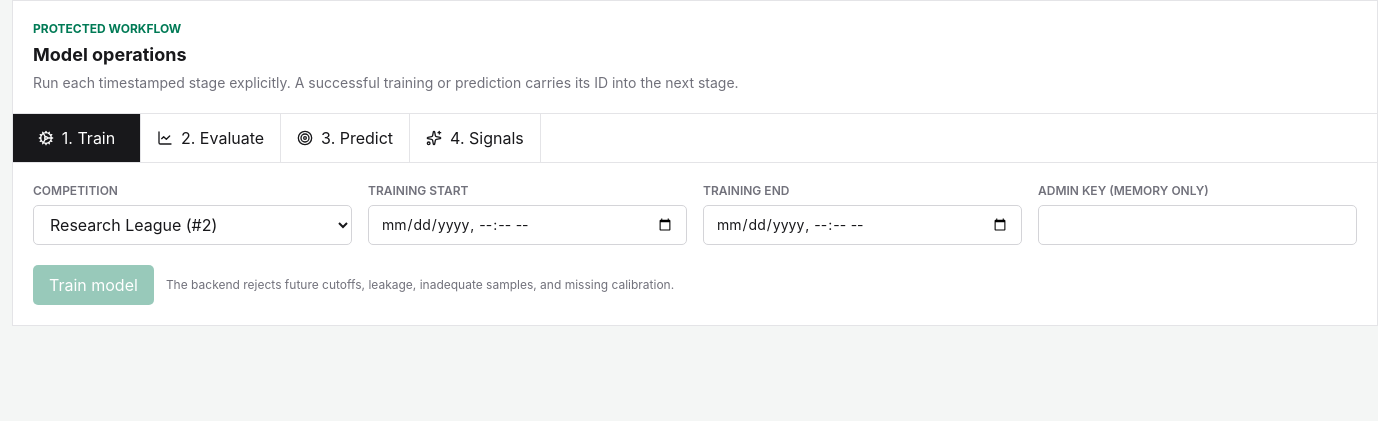
ModelOperations › refreshes shared dashboard resources after a successful write
In the field labelled "Training start": (528, 225) [368,205,687,245], type "2026-01-01T00:00"
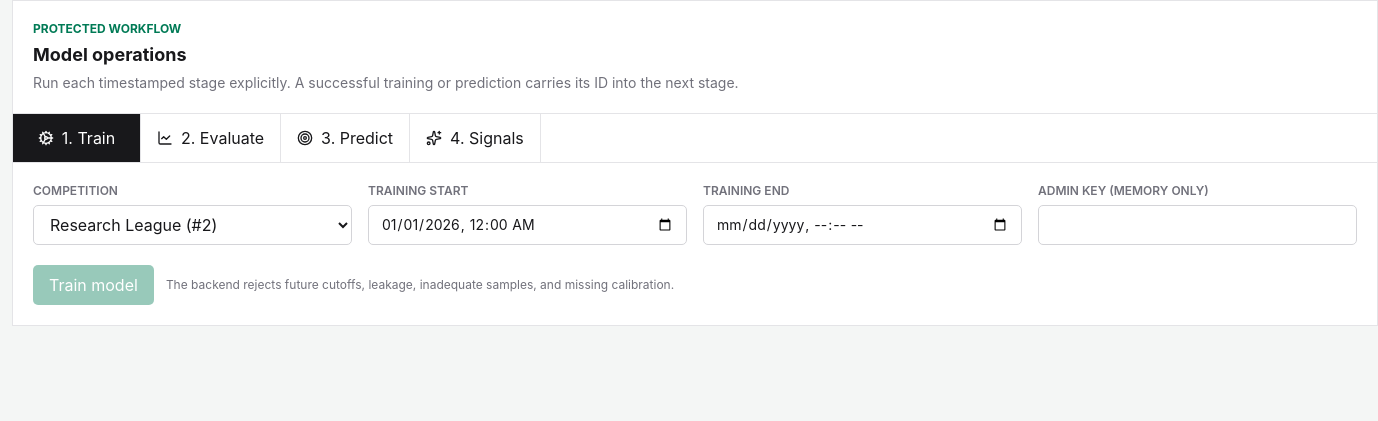
In the field labelled "Training end": (862, 225) [703,205,1022,245], type "2026-06-01T00:00"
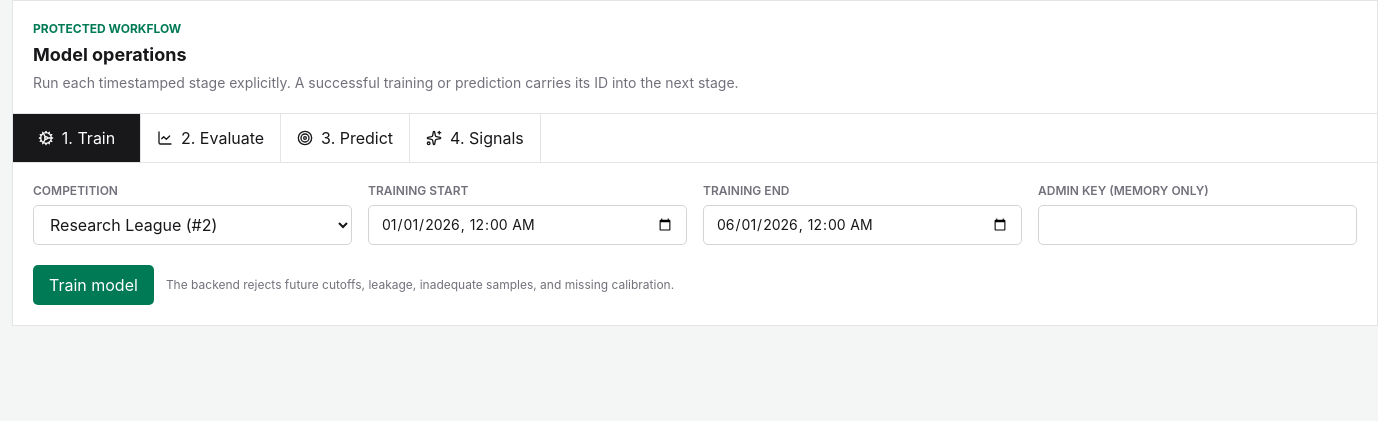
Click the button "Train model": (93, 285) [33,265,154,305]
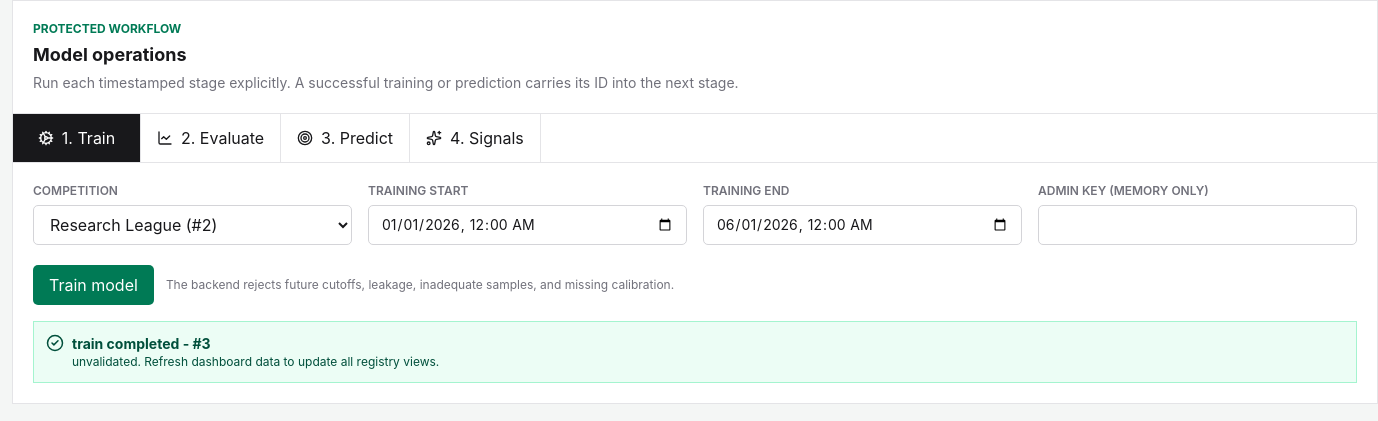
Now the text "train completed - #3" is shown, box [72,335,211,352]
